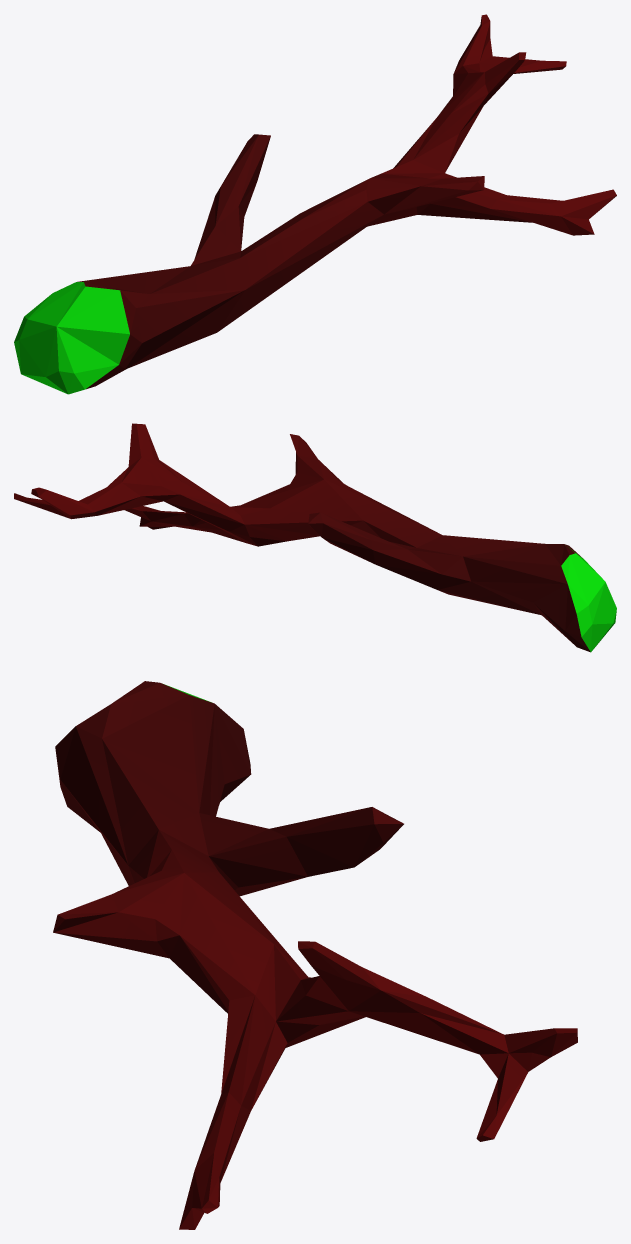
The model's file is SM_Env_DriftWood_01.gltf.
The picture shows the model from 3 angles, top to bottom: view 1: azimuth 30°, elevation 25°; view 2: azimuth 150°, elevation 25°; view 3: azimuth 270°, elevation 25°; orthographic projection. The views are drawn at different scales.
Visible parts, largest first — view 1: SM_Env_DriftWood_01; view 2: SM_Env_DriftWood_01; view 3: SM_Env_DriftWood_01.
Boxes of the visible parts, <box> form: SM_Env_DriftWood_01: <box>14,14,616,394</box>; SM_Env_DriftWood_01: <box>14,423,616,652</box>; SM_Env_DriftWood_01: <box>53,681,577,1229</box>.
Size of the model in its own units: 4.63 by 1.21 by 2.05.
